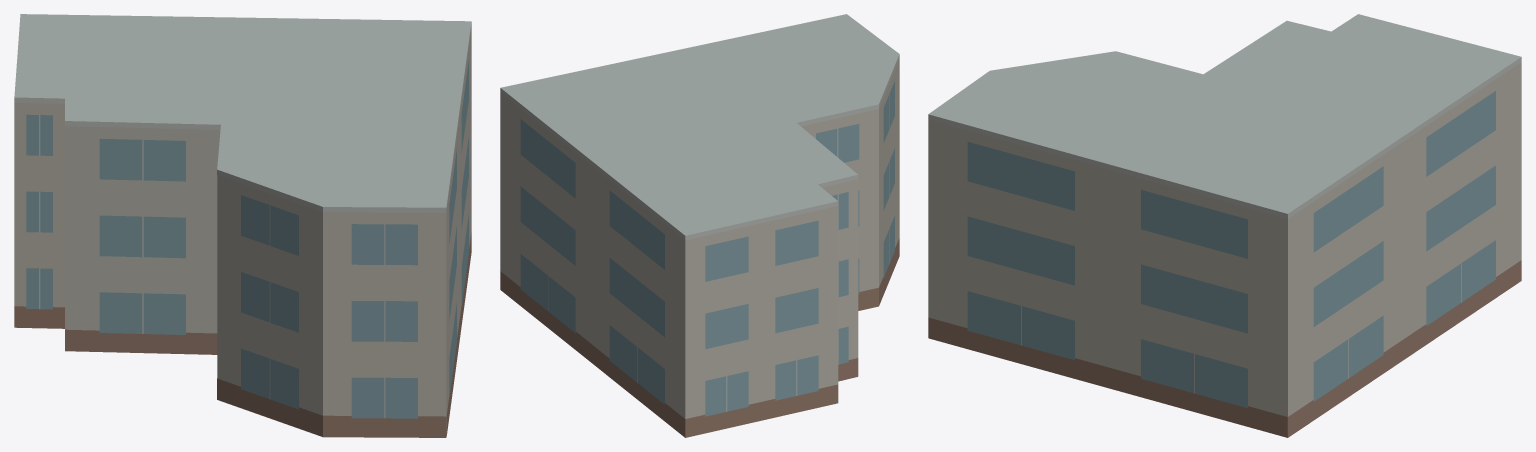
The model's file is survey-upis-32977352.glb.
The picture shows the model from 3 angles, left to right: view 1: azimuth 30°, elevation 25°; view 2: azimuth 150°, elevation 25°; view 3: azimuth 270°, elevation 25°; orthographic projection. The views are drawn at different scales.
Parts seen in each view (by area): view 1: survey-upis-32977352.tmp; view 2: survey-upis-32977352.tmp; view 3: survey-upis-32977352.tmp.
Part boxes in pixels (bbox=[...]): survey-upis-32977352.tmp: bbox=[14, 14, 471, 437]; survey-upis-32977352.tmp: bbox=[500, 14, 899, 437]; survey-upis-32977352.tmp: bbox=[928, 14, 1521, 437].
Bounding box in the file's own units: 20.49 × 10.7 × 25.7.
